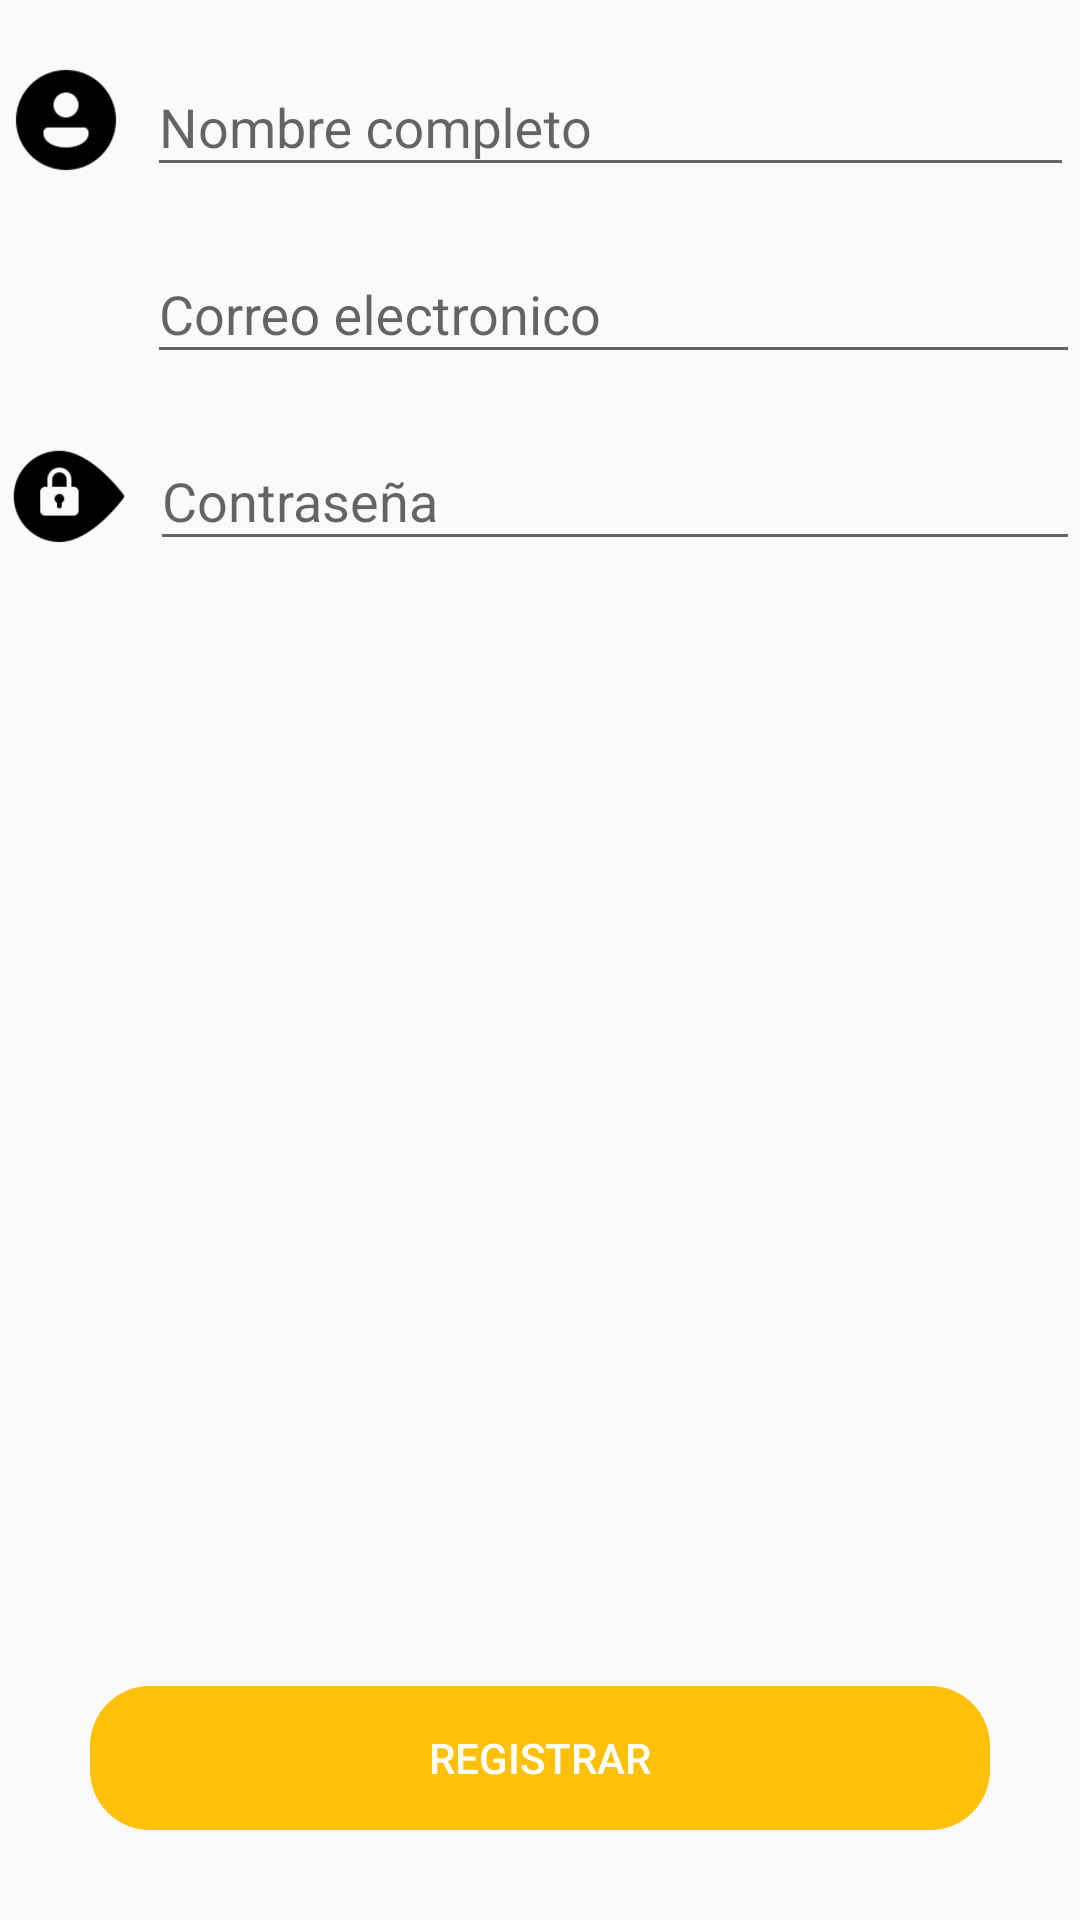

Icons on this 1080x1920 Android screen, each with its box as box=[x1, y1, x2, y2]:
iconpassword: box=[13, 450, 125, 542]
iconuser: box=[15, 69, 117, 171]
